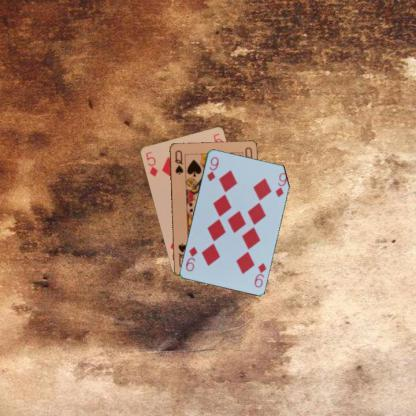5d: (143, 148, 159, 178)
9d: (251, 260, 268, 288), (204, 154, 220, 182)
Qs: (172, 147, 184, 176)
